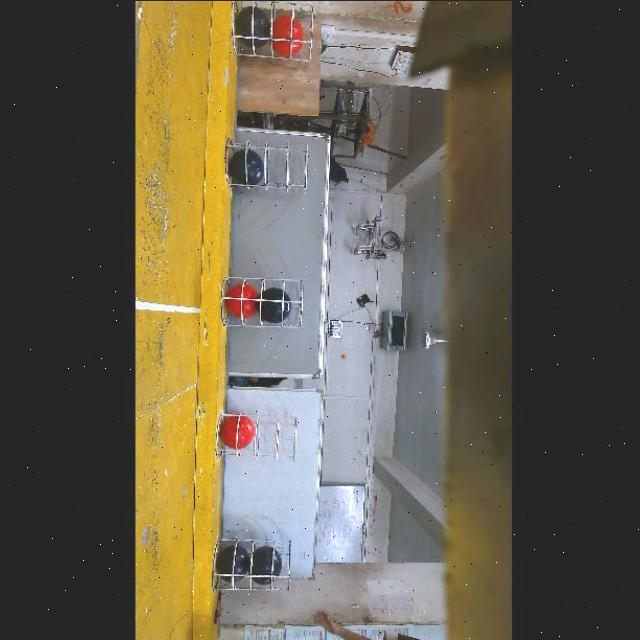P: (236, 5, 273, 48), (216, 543, 252, 584), (230, 149, 267, 184), (250, 545, 283, 584), (259, 287, 293, 322)
R: (221, 414, 256, 447), (272, 18, 305, 53), (227, 283, 259, 317)
S: (227, 8, 321, 66), (222, 137, 310, 197), (220, 274, 306, 332), (217, 403, 296, 463), (216, 534, 294, 590)
